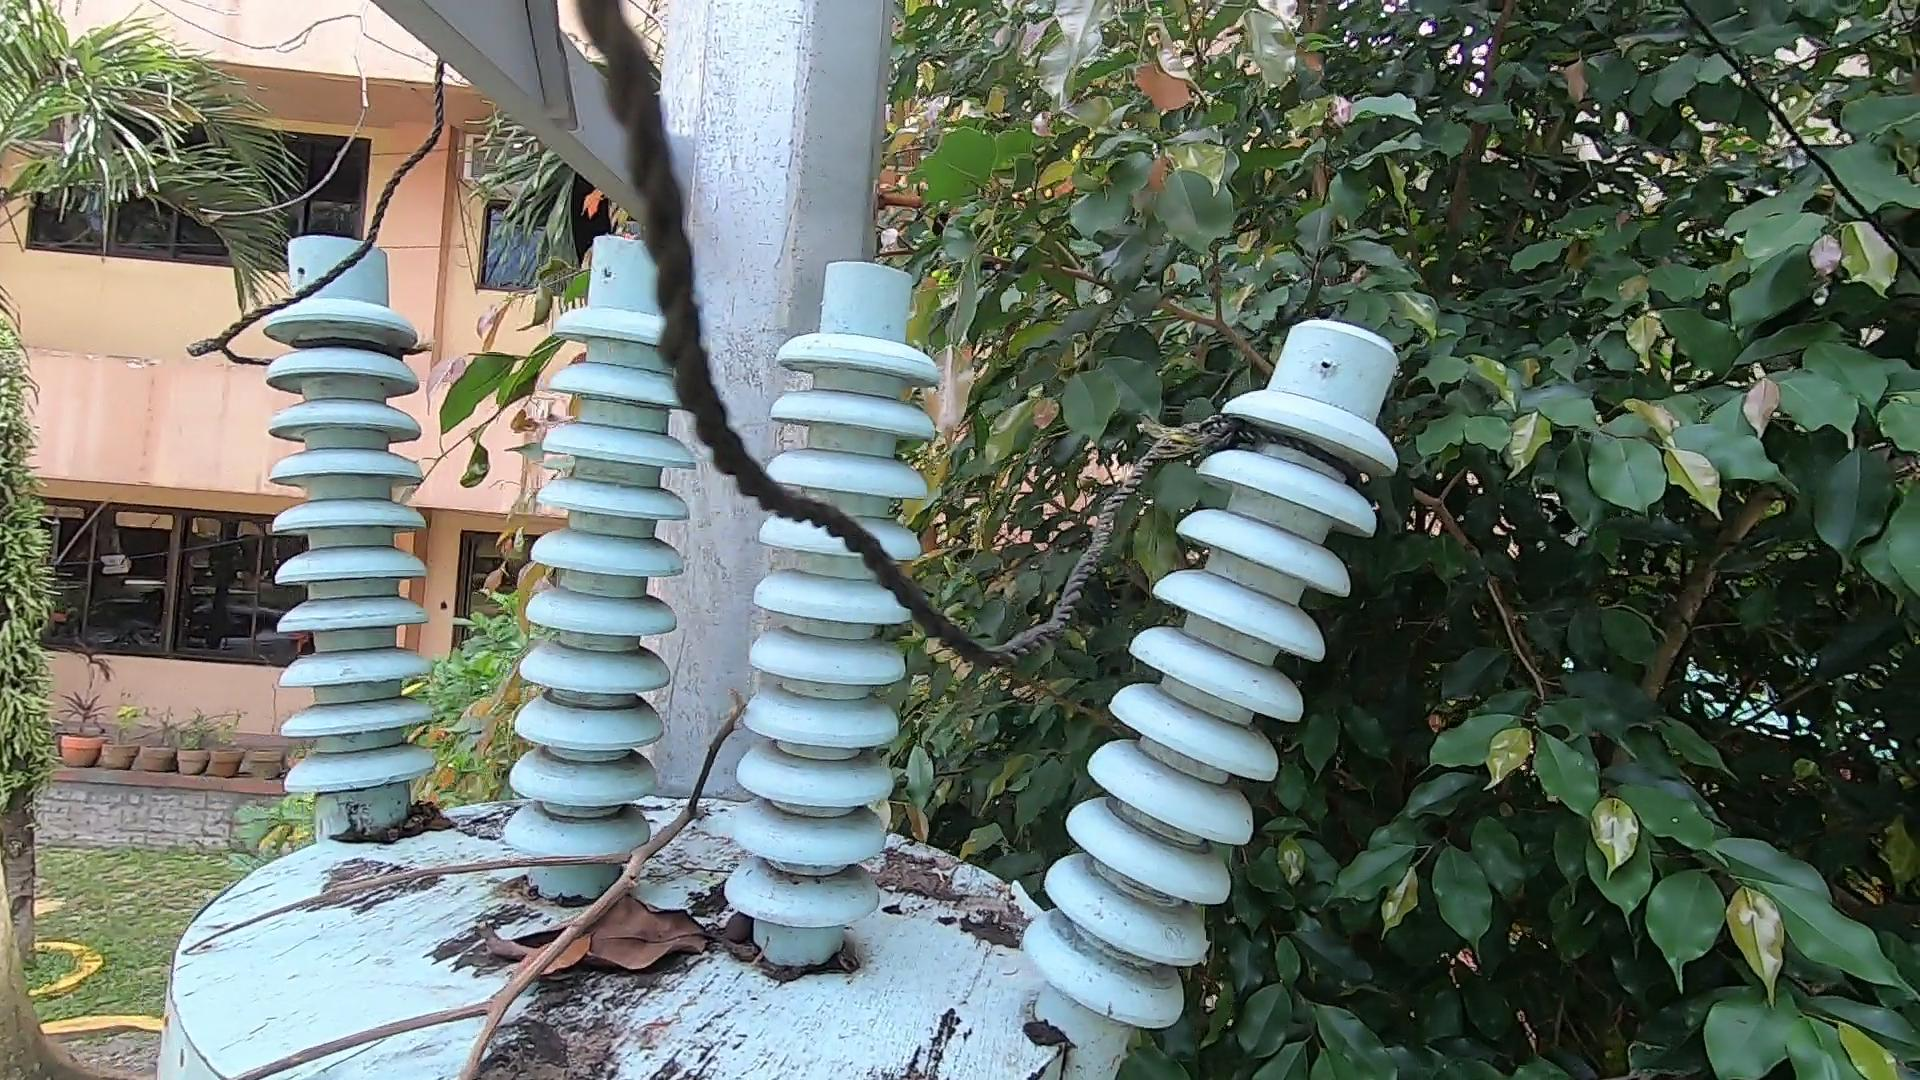leaf: (456, 877, 756, 992), (874, 829, 1029, 948), (324, 793, 472, 844)
tree branch: (158, 680, 773, 1080)
